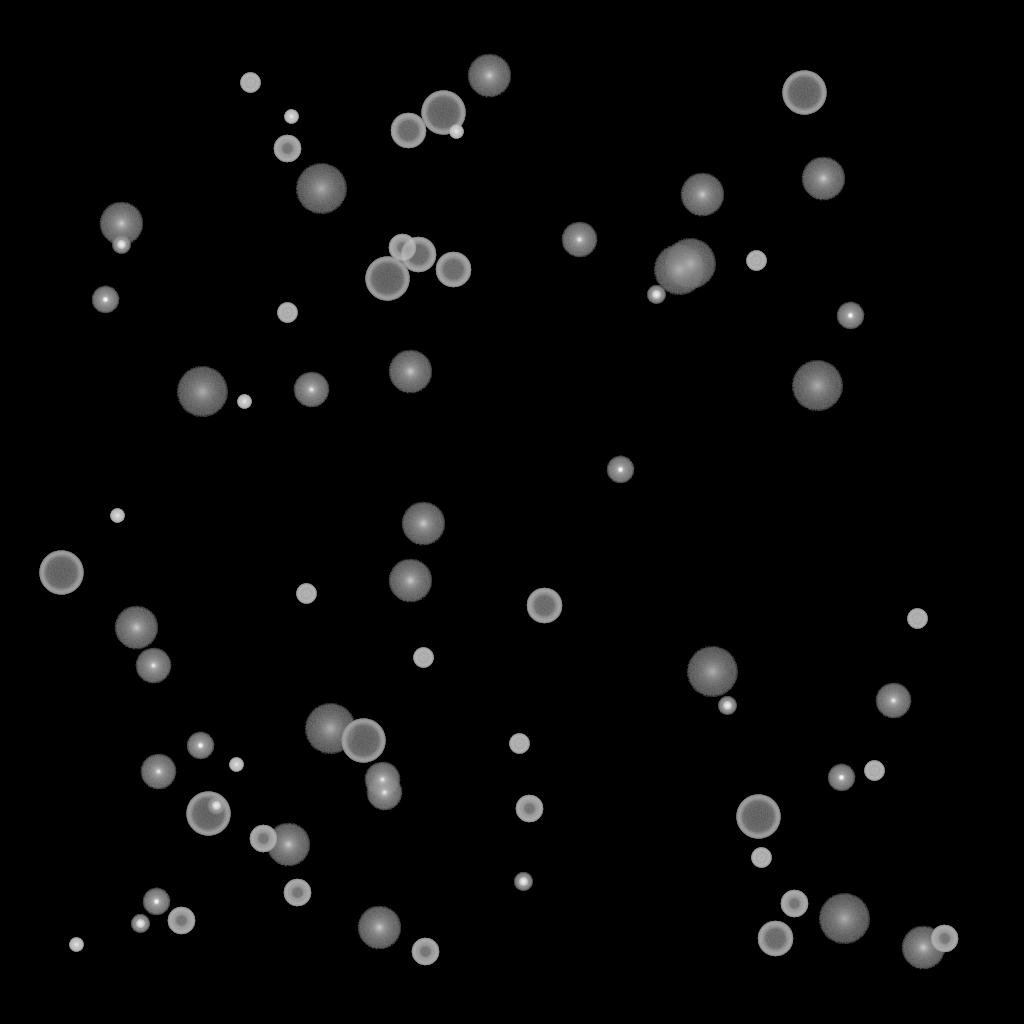depth:-10: (606, 456, 634, 484), (827, 764, 855, 792), (142, 888, 170, 916), (91, 286, 119, 314), (836, 302, 864, 330), (186, 732, 214, 760)
depth:-20: (207, 797, 225, 815), (514, 873, 532, 891), (718, 697, 736, 715), (131, 915, 149, 933), (647, 286, 665, 304), (112, 236, 130, 254)
depth:-30: (449, 125, 463, 139), (237, 395, 251, 409), (110, 509, 124, 523), (69, 938, 83, 952), (229, 758, 243, 772), (284, 110, 298, 124)
depth:-40: (751, 848, 771, 868), (907, 609, 927, 629), (864, 761, 884, 781), (277, 303, 297, 323), (746, 251, 766, 271), (296, 584, 316, 604), (240, 73, 260, 93), (413, 648, 433, 668), (509, 734, 529, 754)
depth:-50: (388, 234, 416, 262), (930, 925, 958, 953), (249, 825, 277, 853), (167, 907, 195, 935), (515, 795, 543, 823), (780, 890, 808, 918), (283, 879, 311, 907), (411, 938, 439, 966), (273, 135, 301, 163)
depth:-60: (757, 921, 793, 957), (526, 588, 562, 624), (390, 113, 426, 149), (400, 237, 436, 273), (435, 252, 471, 288)
depth:-70: (39, 551, 83, 595), (186, 792, 230, 836), (365, 257, 409, 301), (341, 719, 385, 763), (421, 91, 465, 135), (782, 71, 826, 115), (736, 795, 780, 839)
depth:0: (293, 372, 329, 408), (366, 775, 402, 811), (875, 683, 911, 719), (561, 222, 597, 258), (135, 648, 171, 684), (364, 762, 400, 798), (140, 754, 176, 790)
depth:10: (114, 606, 158, 650), (388, 559, 432, 603), (401, 502, 445, 546), (388, 350, 432, 394), (901, 926, 945, 970), (467, 54, 511, 98), (680, 173, 724, 217), (99, 202, 143, 246), (266, 823, 310, 867), (801, 157, 845, 201), (357, 906, 401, 950)
depth:20: (791, 361, 843, 411), (818, 894, 870, 944), (653, 245, 705, 295), (664, 239, 716, 289), (295, 164, 347, 214), (176, 367, 228, 417), (304, 704, 356, 754), (686, 647, 738, 697)
